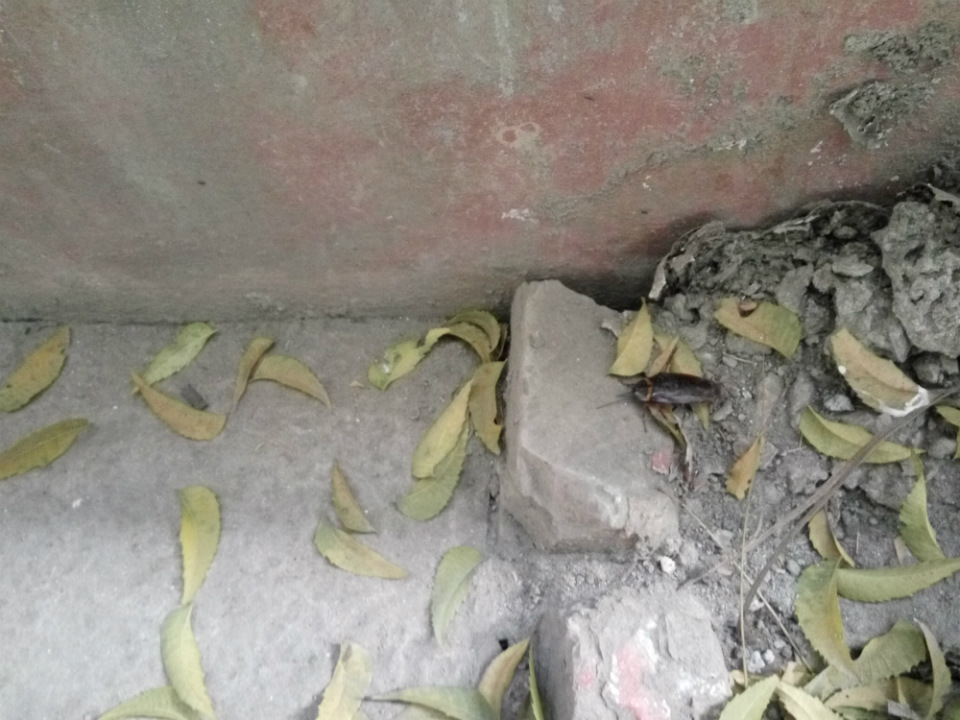cockroach: (590, 344, 744, 441)
